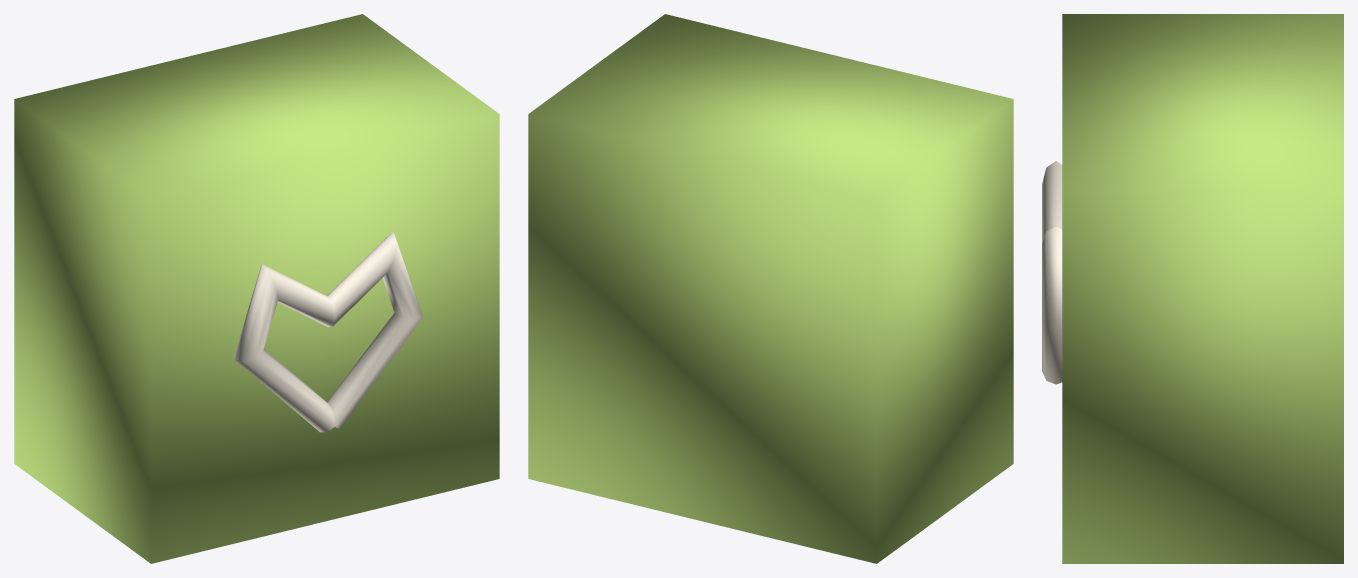
Rendered from block_lime.glb.
The picture shows the model from 3 angles, left to right: view 1: azimuth 30°, elevation 25°; view 2: azimuth 150°, elevation 25°; view 3: azimuth 270°, elevation 25°; orthographic projection. The views are drawn at different scales.
Visible parts, largest first — view 1: lime, heart_icon; view 2: lime; view 3: lime, heart_icon.
Boxes of the visible parts, left/top/right/bottom form: lime: left=14, top=14, right=499, bottom=563; heart_icon: left=234, top=232, right=422, bottom=432; lime: left=528, top=14, right=1013, bottom=563; lime: left=1062, top=14, right=1343, bottom=563; heart_icon: left=1042, top=161, right=1062, bottom=384.
Size of the model in its own units: 1 by 1 by 0.729.
